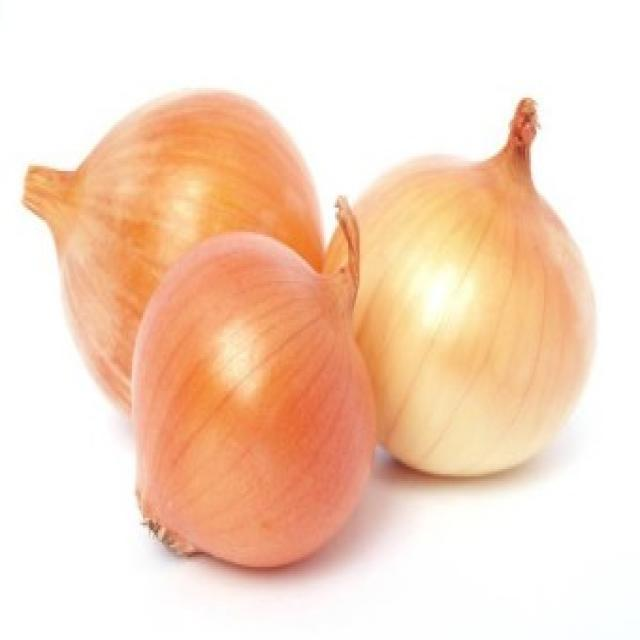onion: (21, 89, 328, 409), (352, 98, 600, 480), (129, 201, 377, 571)
